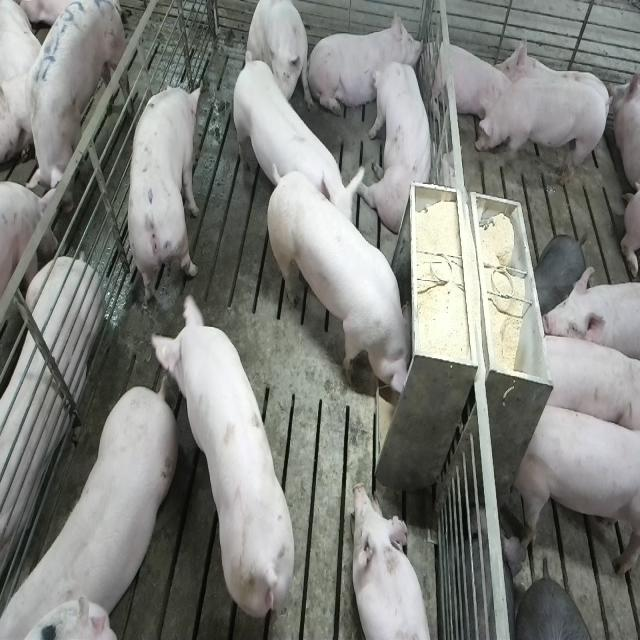Feeding: (270, 170, 422, 400)
Sitting: (367, 61, 437, 232), (246, 2, 308, 117)
Standing: (149, 288, 296, 626), (5, 377, 182, 634), (232, 53, 363, 232), (512, 396, 638, 580), (21, 0, 125, 203), (125, 79, 205, 313), (476, 80, 614, 188), (532, 330, 637, 437), (540, 268, 640, 365)
Sternal_lying: (0, 181, 101, 583), (312, 8, 423, 123), (351, 483, 432, 640), (428, 35, 511, 133)
